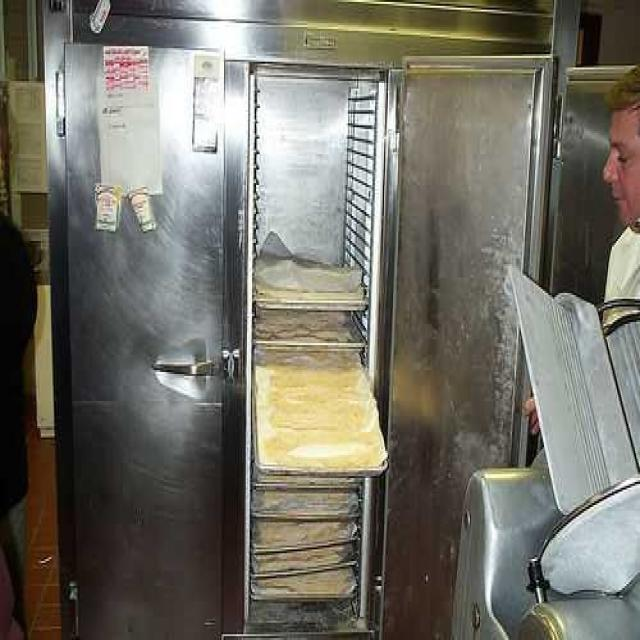refrigerator: (63, 37, 411, 639)
